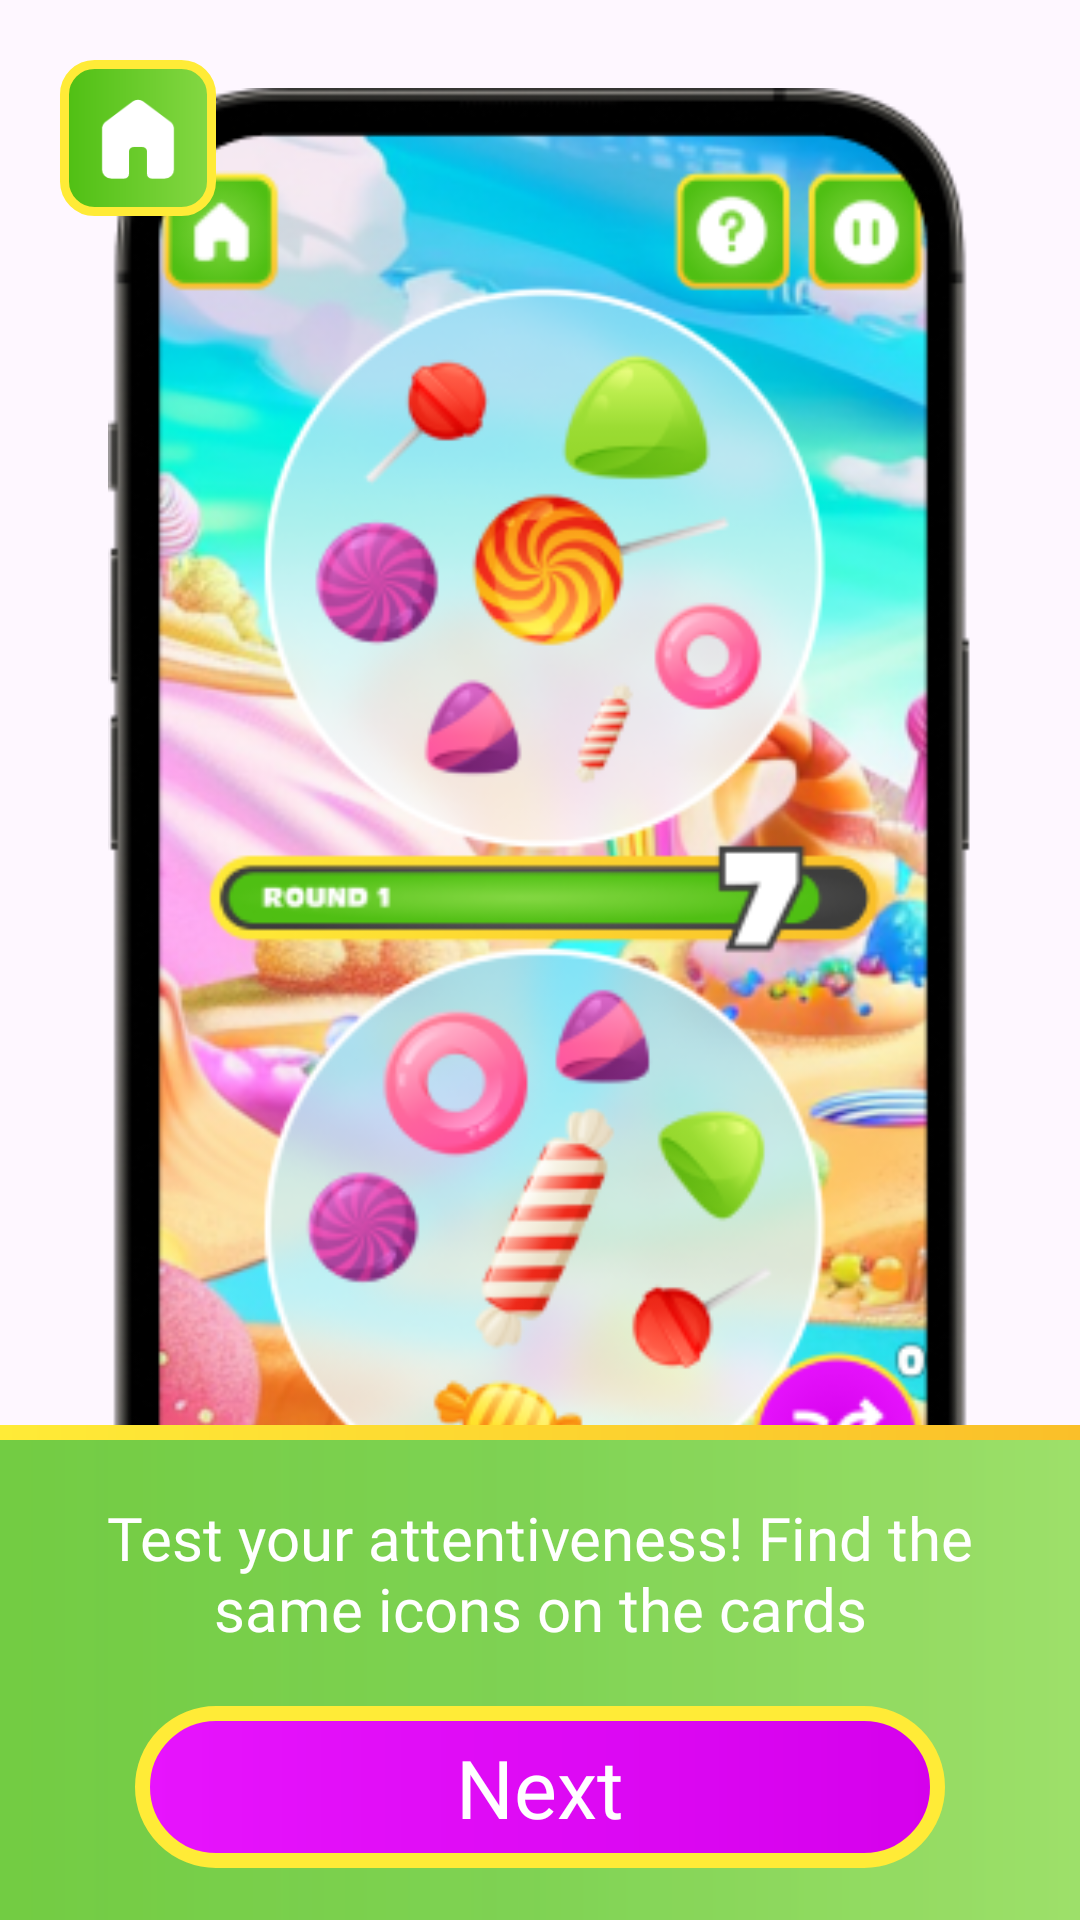

Icons on this 1080 x 1920 Android screen, each with its box as region(x1, y1, x2, y2):
home without: region(60, 60, 216, 216)
